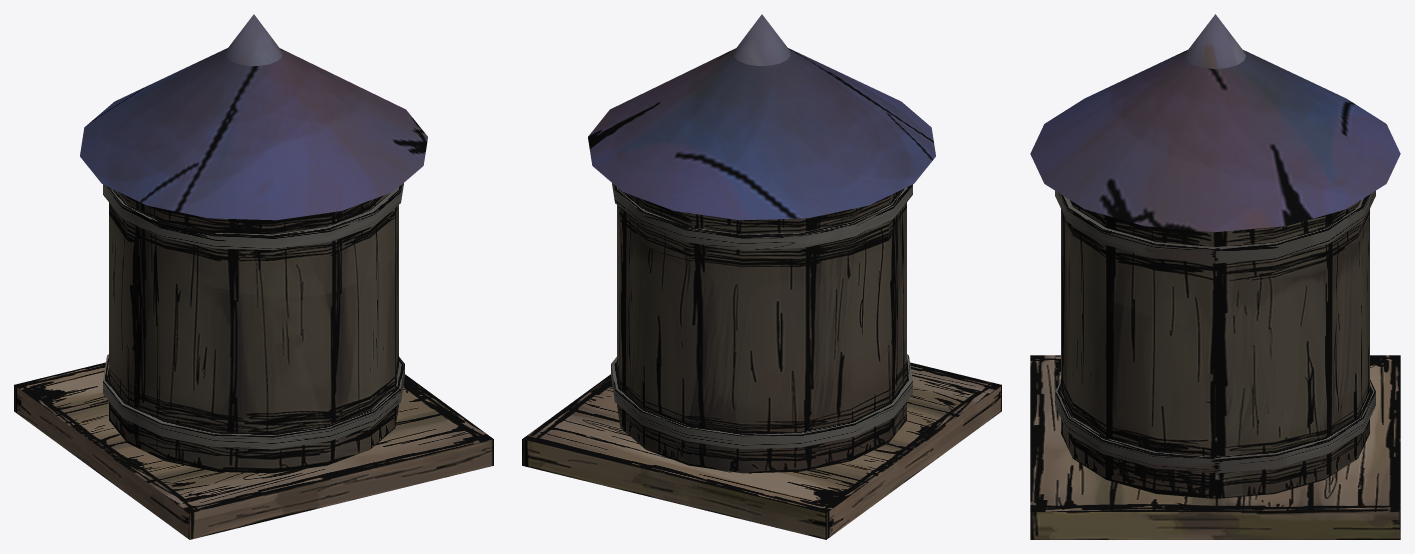
Rendered from watertower.fbx.
The picture shows the model from 3 angles, left to right: view 1: azimuth 30°, elevation 25°; view 2: azimuth 150°, elevation 25°; view 3: azimuth 270°, elevation 25°; orthographic projection. The views are drawn at different scales.
Visible parts, largest first — view 1: watertower; view 2: watertower; view 3: watertower.
Boxes of the visible parts, box(x1,y1,x2,y2) form: watertower: box(14, 14, 493, 539); watertower: box(522, 14, 1001, 539); watertower: box(1030, 14, 1400, 539).
Bounding box in the file's own units: 240 × 320 × 240.
